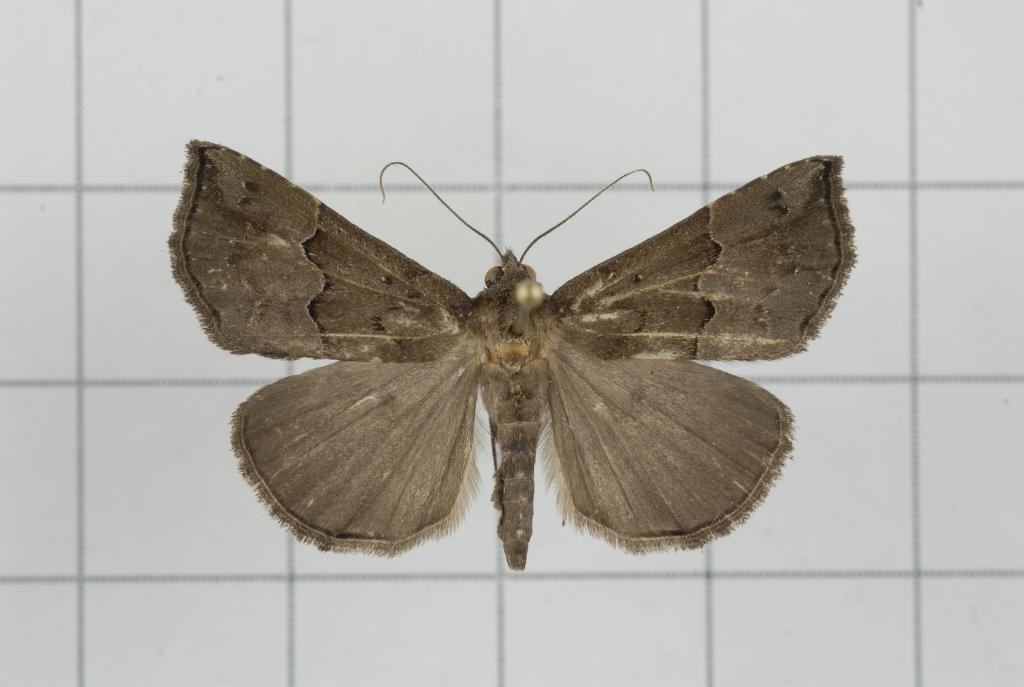Butterfly: (165, 142, 865, 603)
